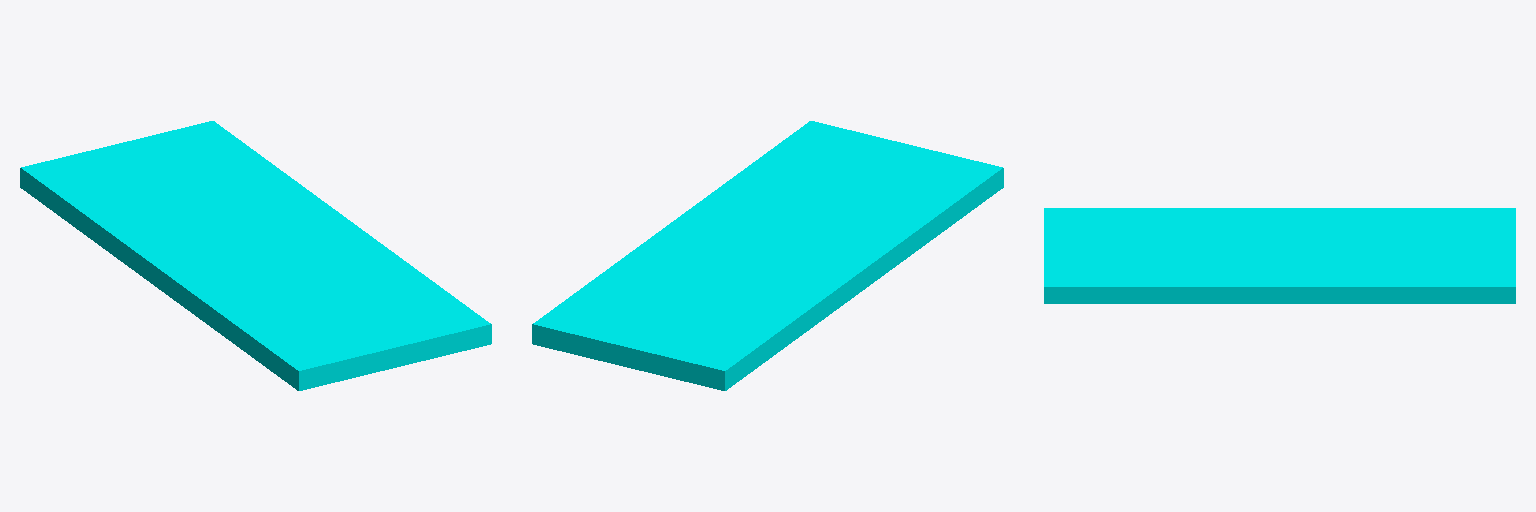
The robot description file, URDF, robot "short_rod":
<?xml version="1.0"?>
<robot name="short_rod">
  <link name="base_link">

    <inertial>
      <origin xyz="0 0 0" rpy="0 0 0" />
      <mass value="0.1" />
      <inertia ixx="0.00209" ixy="0" ixz="0" iyy="0.000337" iyz="0"
          izz="0.00242" />
    </inertial>

    <visual>
      <origin xyz="0 0 0" rpy="0 0 0" />
      <geometry>
        <box size="0.20 0.5 0.02" />
      </geometry>
      <material name="blue">
        <color rgba="0 1 1 1" />
      </material>
    </visual>
    <collision>
      <geometry>
        <box size="0.20 0.5 0.02" />
      </geometry>
    </collision>


   </link>
</robot>

--- Render facts (derived) ---
The picture shows the robot from 3 angles, left to right: view 1: azimuth 30°, elevation 25°; view 2: azimuth 150°, elevation 25°; view 3: azimuth 270°, elevation 25°; orthographic projection.
Model short_rod with 1 links and 0 joints (none), rooted at base_link, posed every joint at zero.
Visible links, largest first — view 1: base_link; view 2: base_link; view 3: base_link.
Boxes of the visible links, left/top/right/bottom form: base_link: left=20, top=121, right=491, bottom=390; base_link: left=532, top=121, right=1003, bottom=390; base_link: left=1044, top=208, right=1515, bottom=303.
Size in the robot's own frame: 0.2 by 0.5 by 0.02 metres.
Geometry: primitives only (box / cylinder / sphere), no mesh files.